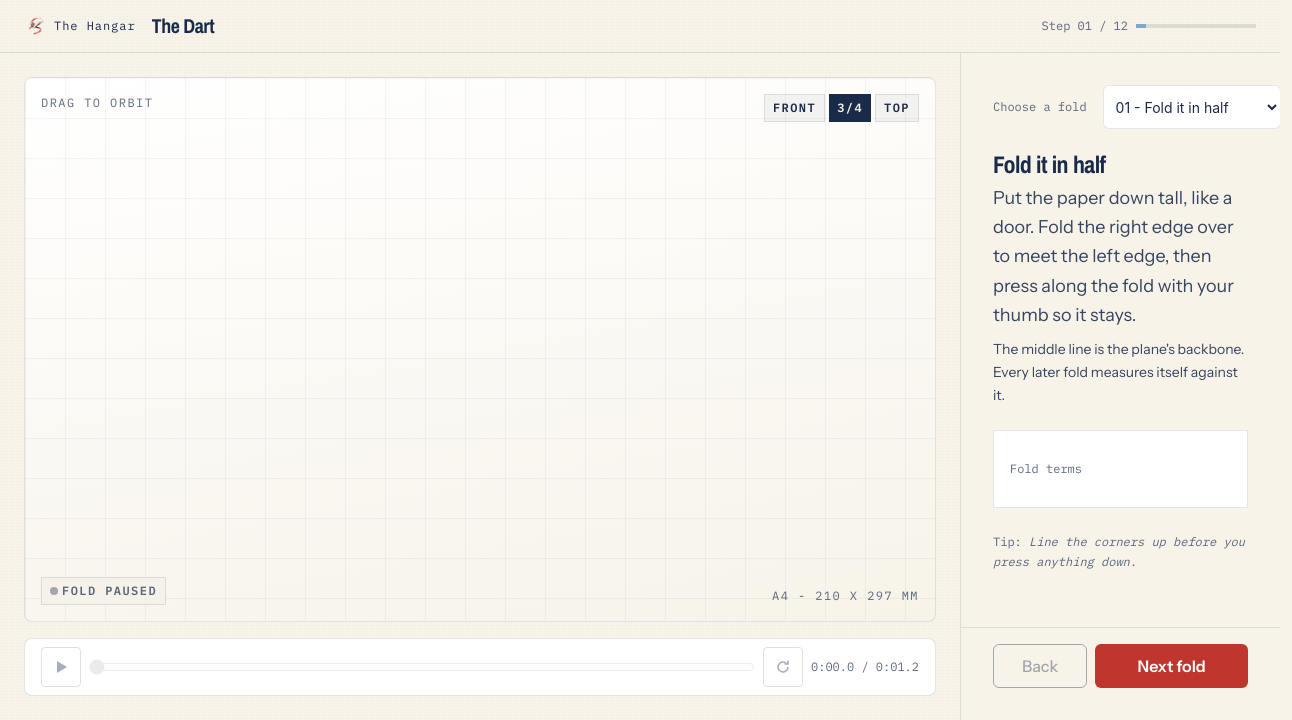
Test: guided playback › preserves deliberate Next autoplay while the renderer chunk is still loading
Click the button "Next fold": (1172, 666) [1095,644,1248,688]
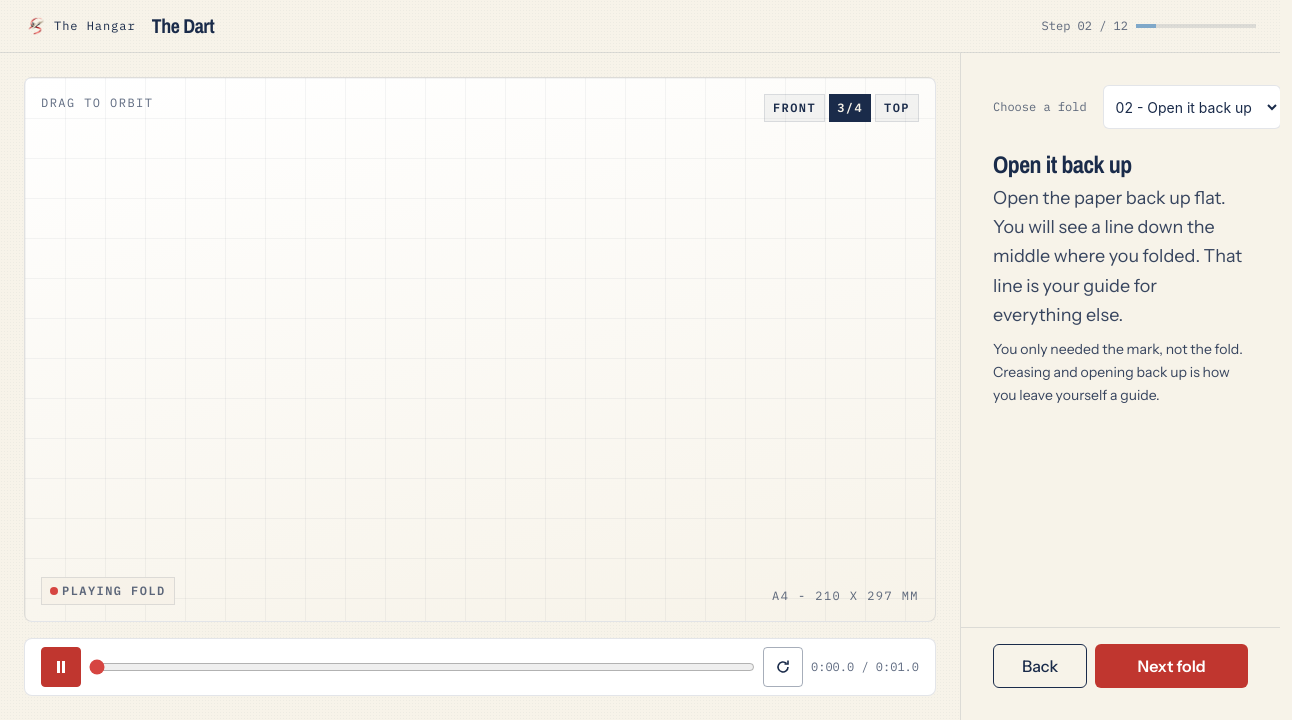
Expected: the dropdown labelled "Choose a fold" shows "02 - Open it back up", [1103,85,1280,129]
Expected: the text with test id "stage-status" reads "Playing fold", [62,583,166,598]
